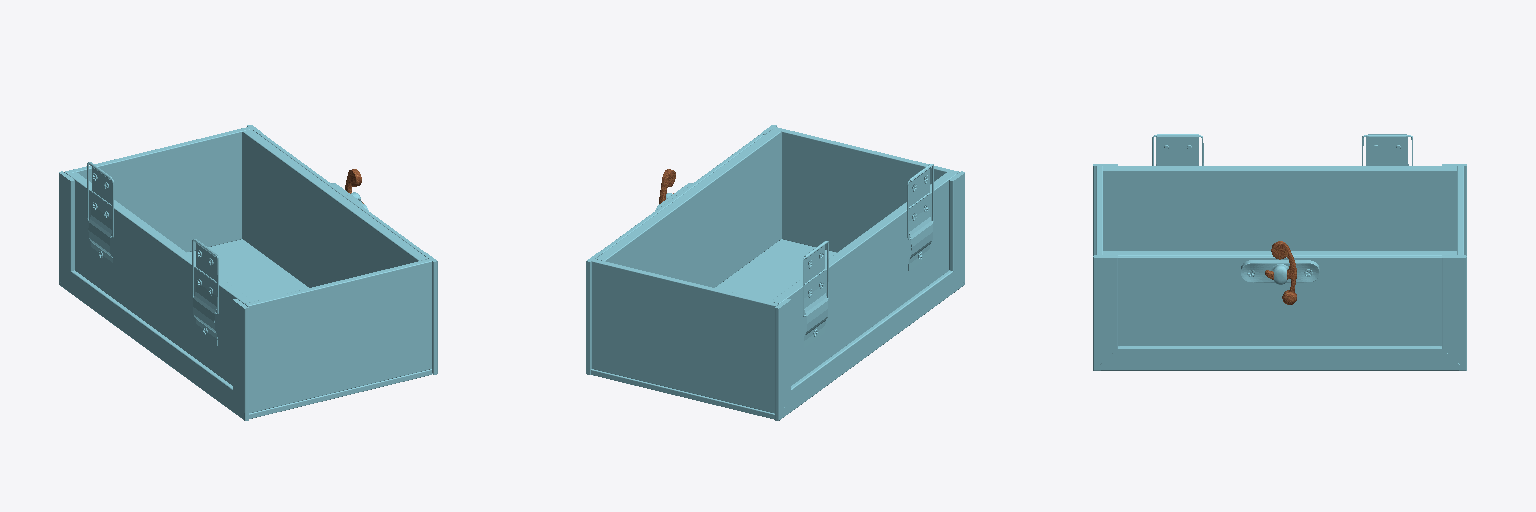
3 renders of one model, left to right at view 1: azimuth 30°, elevation 25°; view 2: azimuth 150°, elevation 25°; view 3: azimuth 270°, elevation 25°, orthographic.
Visible parts, largest first — view 1: Box, Hinge_bottom, Hinge_top; view 2: Box, Hinge_bottom, Hinge_top; view 3: Box, Hinge_top, Lock.
Part boxes in pixels (x1,y1,x2,y2): Box: (59, 125, 437, 420); Hinge_bottom: (88, 190, 217, 345); Hinge_top: (89, 162, 217, 282); Box: (586, 125, 964, 420); Hinge_bottom: (804, 194, 932, 347); Hinge_top: (804, 164, 932, 283); Box: (1093, 164, 1466, 370); Hinge_top: (1156, 134, 1408, 163); Lock: (1265, 241, 1296, 304).
Size of the model in its own units: 9.64 by 6.35 by 14.92.
Materials: 2 (1 with a texture image).